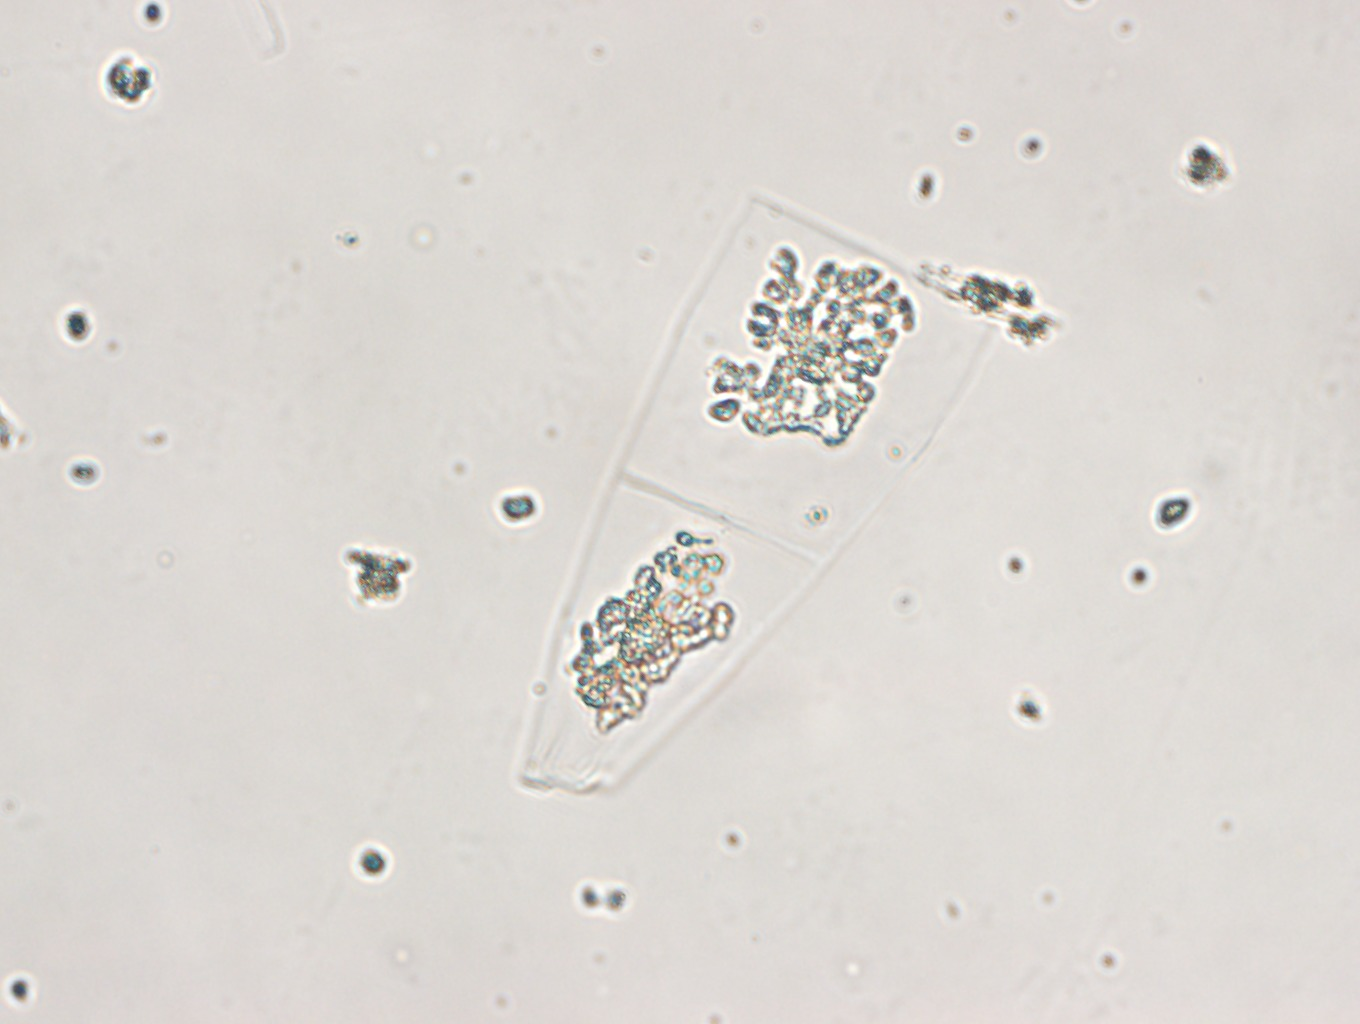helicotheca: (514, 190, 1001, 799)
